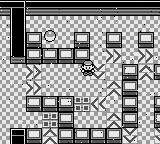main: (81, 60, 95, 75)
no-caminable: (26, 95, 122, 143), (26, 32, 89, 63), (26, 2, 159, 16), (122, 64, 138, 127), (10, 7, 25, 63), (1, 0, 25, 15), (8, 128, 26, 143), (106, 32, 121, 47), (139, 32, 153, 47), (154, 96, 160, 127), (155, 65, 160, 79)
poke-ball: (44, 30, 56, 41)
salto: (26, 64, 42, 80), (106, 80, 122, 96), (139, 63, 154, 80), (90, 64, 106, 79), (138, 48, 154, 63), (106, 112, 121, 128), (26, 80, 41, 95), (122, 128, 137, 143), (43, 129, 58, 144), (106, 48, 121, 62), (91, 97, 106, 111), (155, 128, 160, 144)
